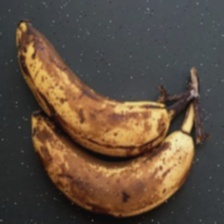banana: (30, 59, 190, 200)
